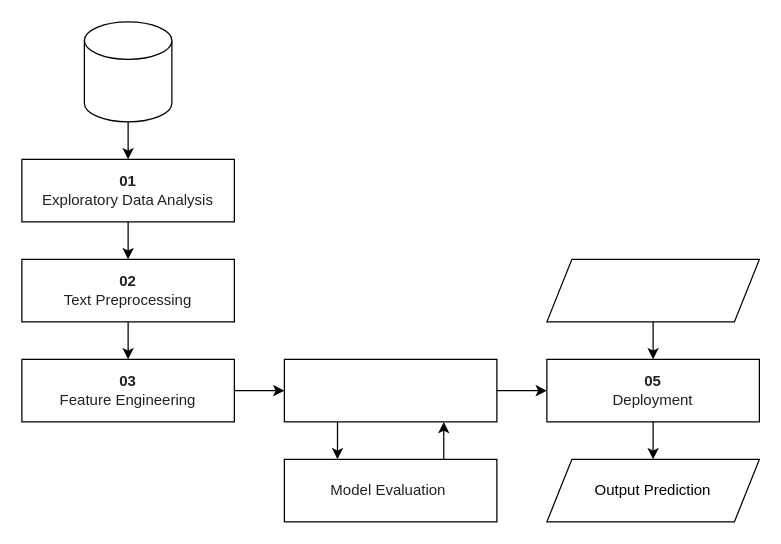
This 781x544 diagram has some shape labels left out. Each missing label, with the centre of its shape:
04 Model Training: the point at 390,390
Input Text: the point at 652,290
Raw Data: the point at 127,71
